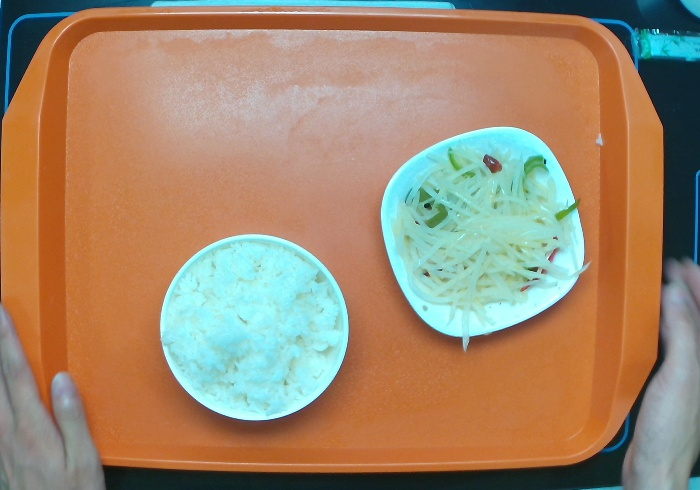ZNLD-Fan_Wan: (157, 232, 350, 422)
ZNLD-Si_Fang_Wan: (378, 125, 586, 339)
